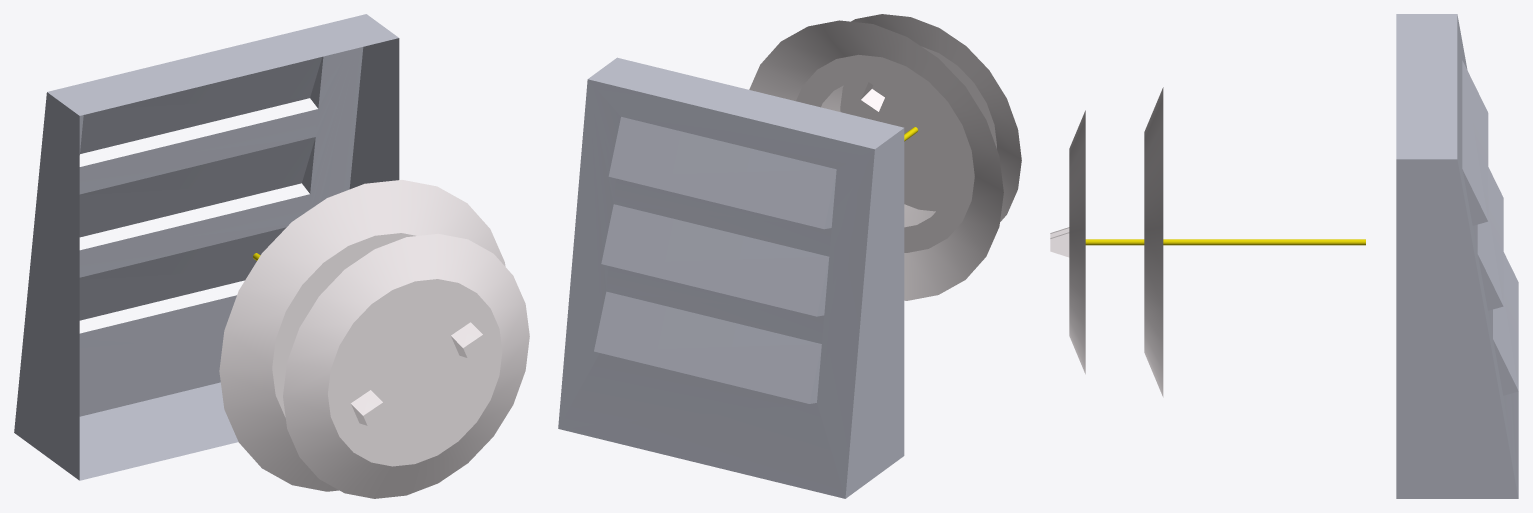
File: sweethome3d-contributions-round-vent-418.glb
The picture shows the model from 3 angles, left to right: view 1: azimuth 30°, elevation 25°; view 2: azimuth 150°, elevation 25°; view 3: azimuth 270°, elevation 25°; orthographic projection. The views are drawn at different scales.
Parts seen in each view (by area): view 1: 1_1, 7_7, 3_3, 4_4, 5_5, 6_6, 9_9, 8_8; view 2: 1_1, 3_3, 4_4, 5_5, 6_6, 7_7; view 3: 1_1, 3_3, 7_7, 5_5, 4_4, 6_6, 2_2.
Part boxes in pixels (x1,y1,x2,y2): 1_1: [14, 14, 399, 480]; 7_7: [283, 233, 529, 498]; 3_3: [219, 180, 505, 491]; 4_4: [79, 137, 315, 237]; 5_5: [80, 56, 323, 153]; 6_6: [79, 227, 286, 320]; 9_9: [351, 390, 387, 425]; 8_8: [451, 322, 487, 357]; 1_1: [558, 57, 904, 498]; 3_3: [749, 20, 1003, 300]; 4_4: [601, 204, 829, 316]; 5_5: [608, 117, 836, 229]; 6_6: [594, 291, 821, 403]; 7_7: [821, 14, 1021, 227]; 1_1: [1396, 14, 1518, 498]; 3_3: [1144, 87, 1163, 397]; 7_7: [1069, 110, 1085, 374]; 5_5: [1462, 60, 1488, 225]; 4_4: [1477, 167, 1503, 310]; 6_6: [1493, 252, 1518, 395]; 2_2: [1085, 239, 1365, 245].
Bounding box in the file's own units: 22 × 24 × 30.
